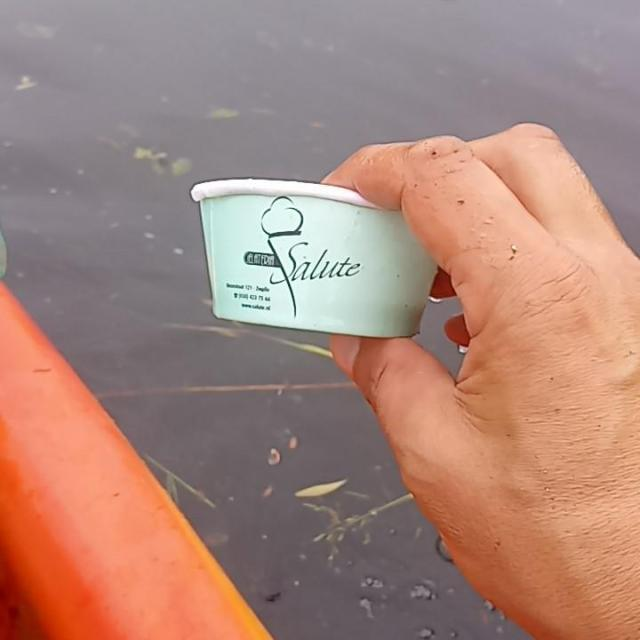Paper: (187, 174, 440, 340)
